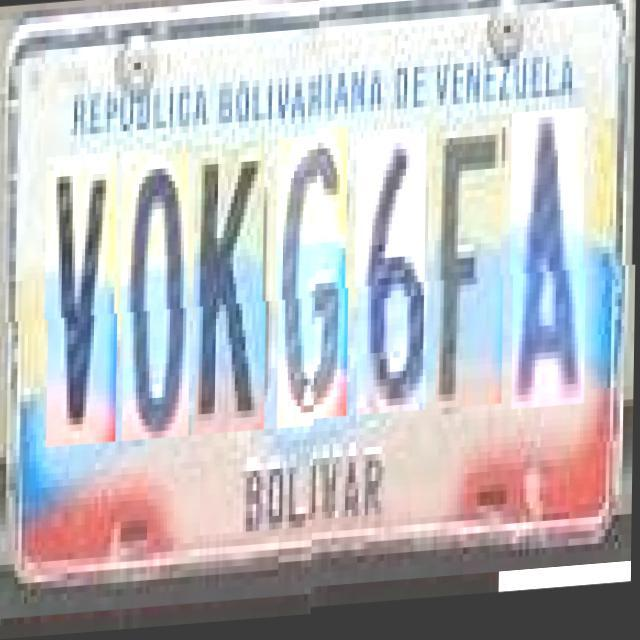6: (358, 141, 430, 428)
A: (512, 124, 588, 425)
F: (437, 129, 506, 423)
G: (278, 139, 352, 433)
K: (196, 144, 269, 438)
O: (124, 149, 192, 443)
V: (48, 154, 120, 448)
